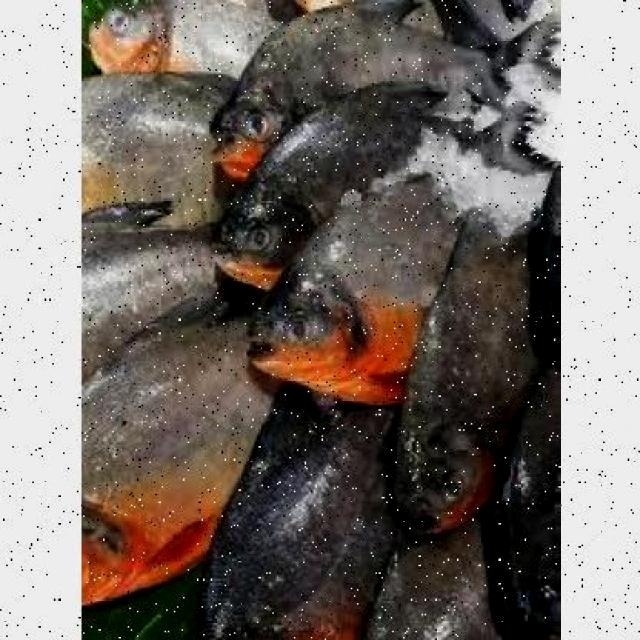ikan-pacu: (246, 130, 520, 402), (384, 200, 558, 542), (80, 298, 262, 612), (212, 3, 526, 166), (210, 90, 452, 284), (206, 402, 385, 638)
